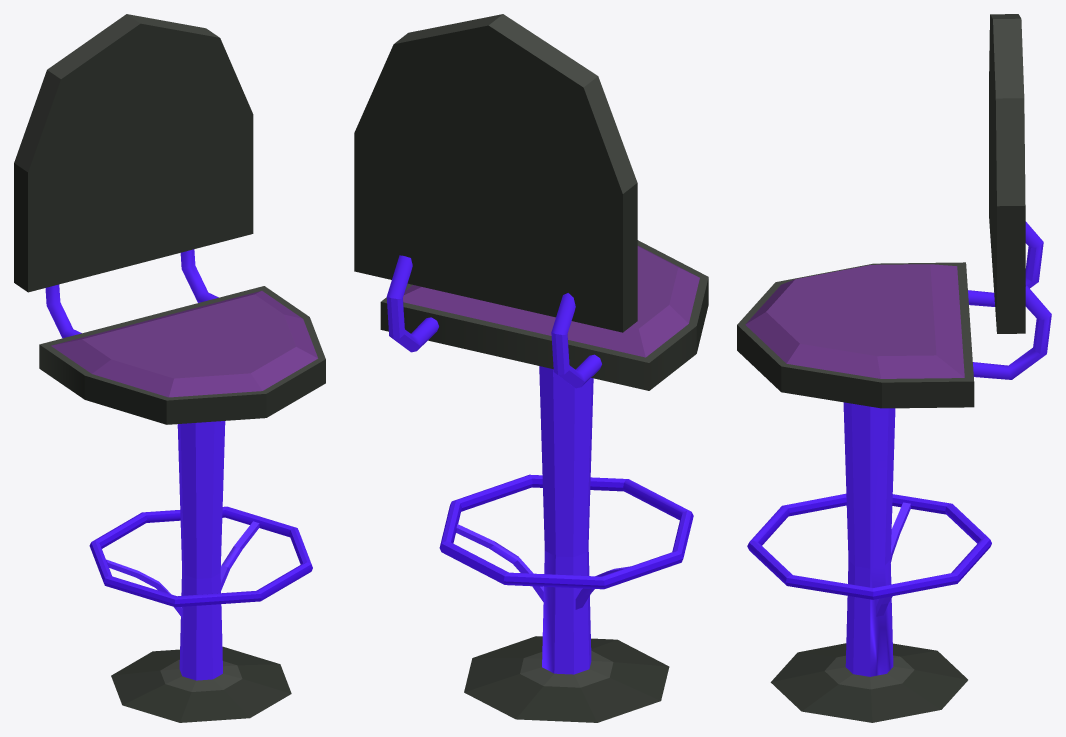
File: Stool_E.glb
The picture shows the model from 3 angles, left to right: view 1: azimuth 30°, elevation 25°; view 2: azimuth 150°, elevation 25°; view 3: azimuth 270°, elevation 25°; orthographic projection. The views are drawn at different scales.
Parts seen in each view (by area): view 1: Barstool_B; view 2: Barstool_B; view 3: Barstool_B.
Boxes of the visible parts, bbox=[...] form: Barstool_B: bbox=[14, 14, 325, 722]; Barstool_B: bbox=[354, 14, 708, 722]; Barstool_B: bbox=[737, 14, 1051, 722].
Size of what is drawn, in the model's own units: 0.6258 by 1.6 by 0.689.
1 material, 1 textured.
